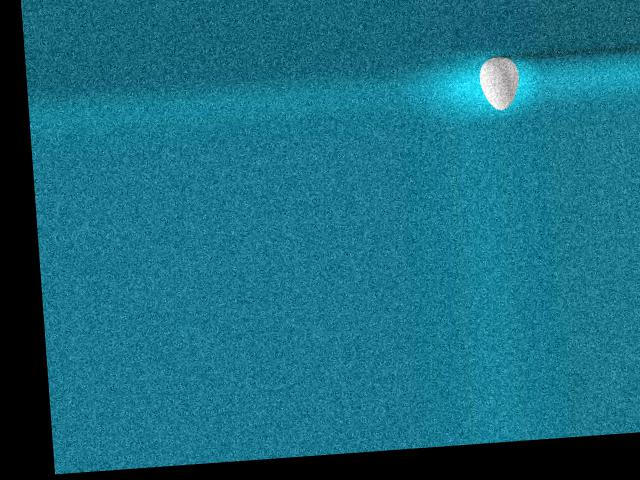egg: (478, 54, 521, 110)
